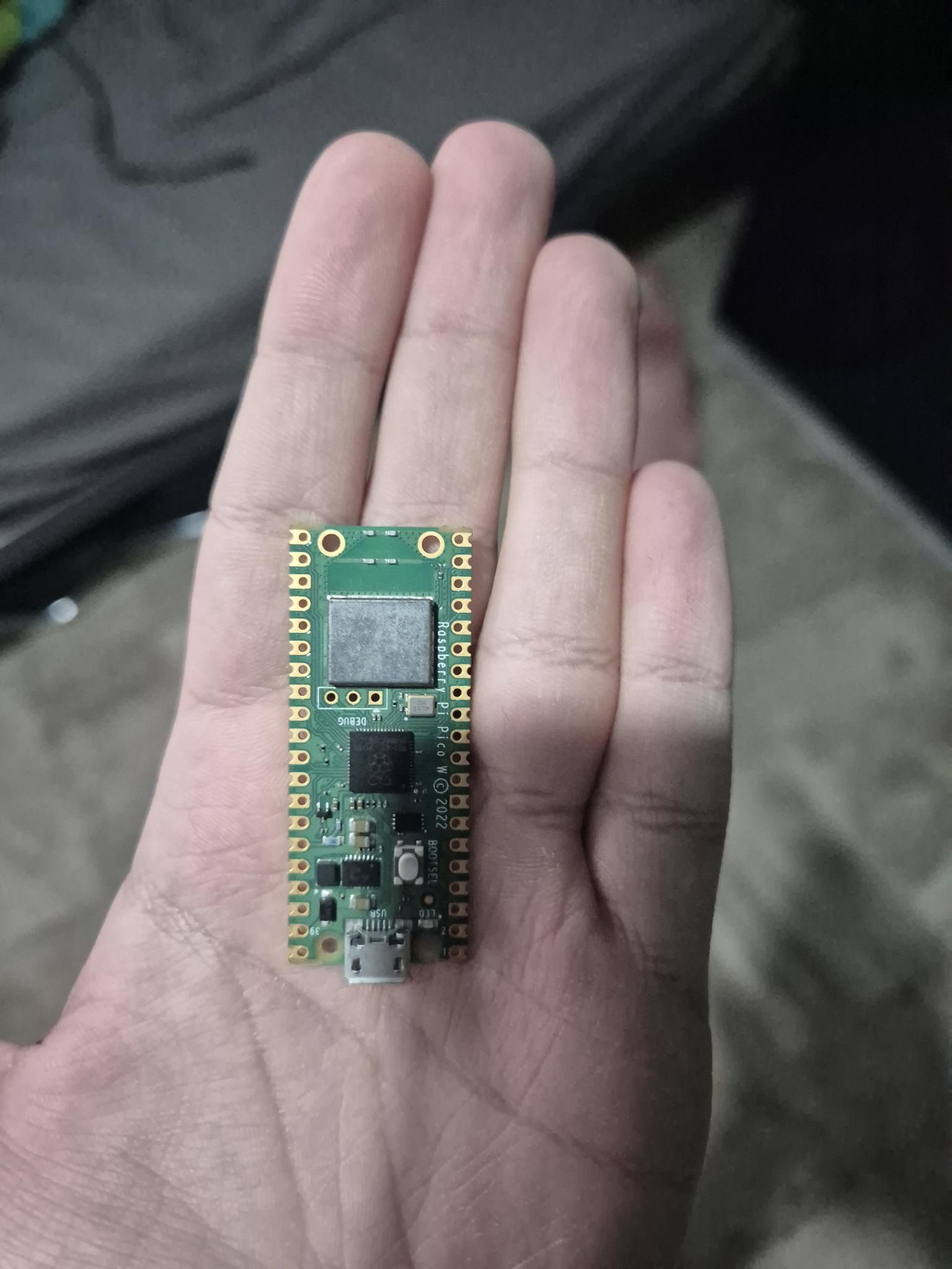raspberry-pi-pico-w: (288, 524, 474, 984)
